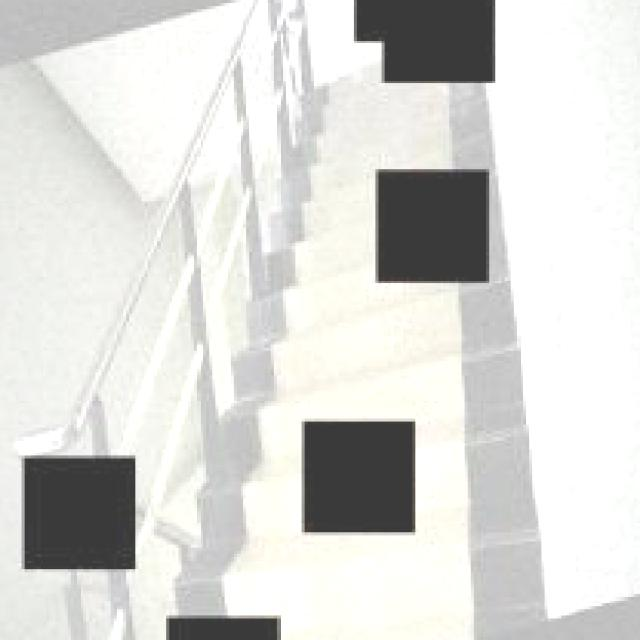upstair: (241, 290, 521, 407), (290, 545, 570, 640)
